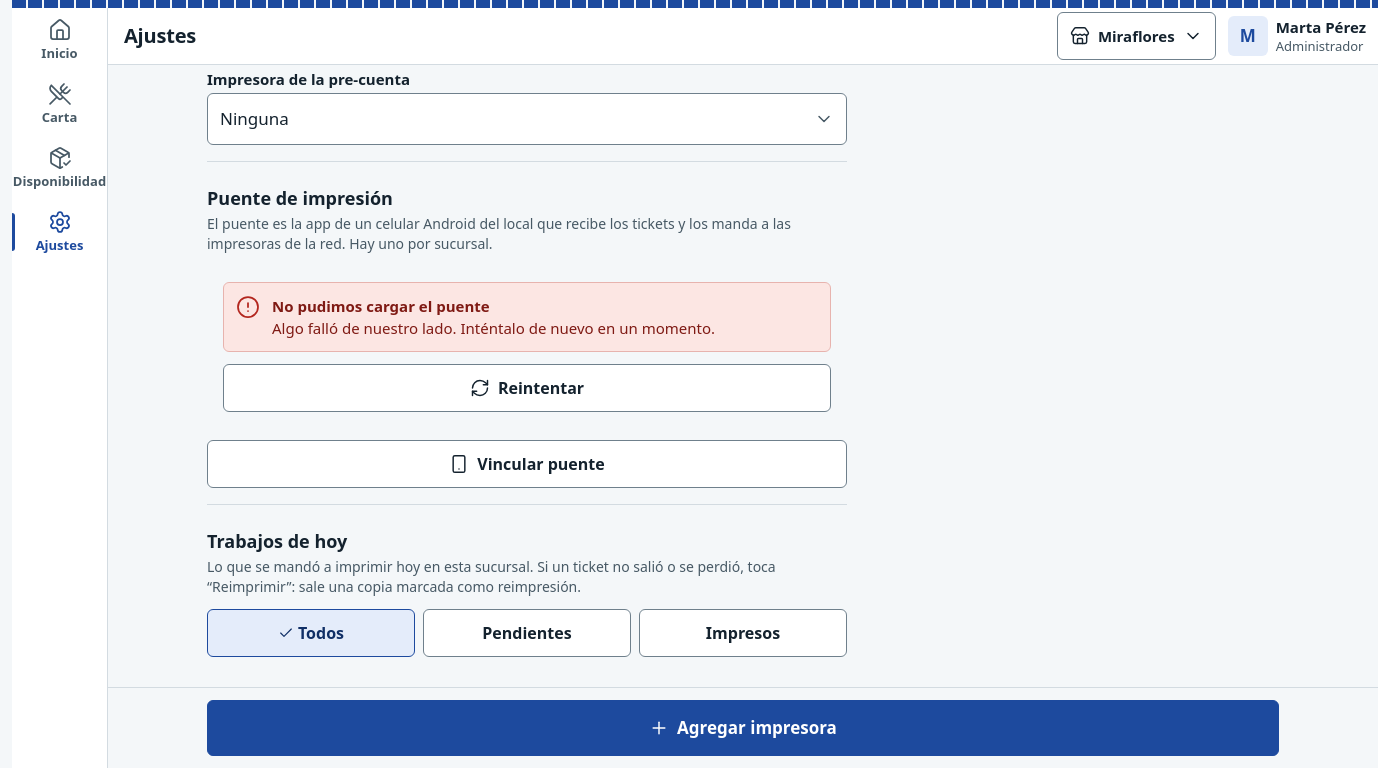
Test: Puente de impresión: estado (criterios 121 y 137) › si no puede cargar el estado, lo dice y deja reintentar
(page scrolled)
Check: the text "No pudimos cargar el puente" is shown, box top-left (272, 296), bottom-right (490, 316)
Click the button "Reintentar" at (527, 388), box top-left (223, 364), bottom-right (831, 412)
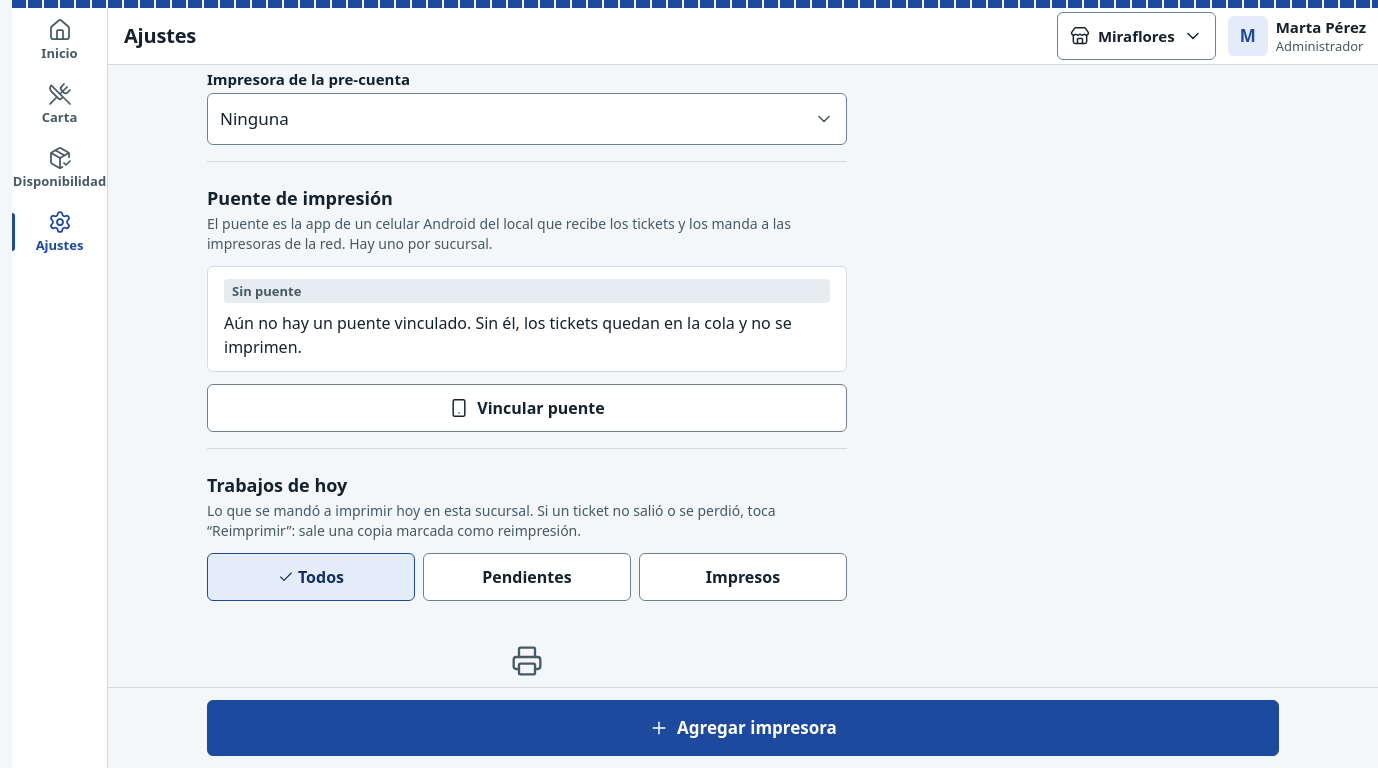
Check: the text "Sin puente" is shown, box top-left (224, 279), bottom-right (830, 303)
